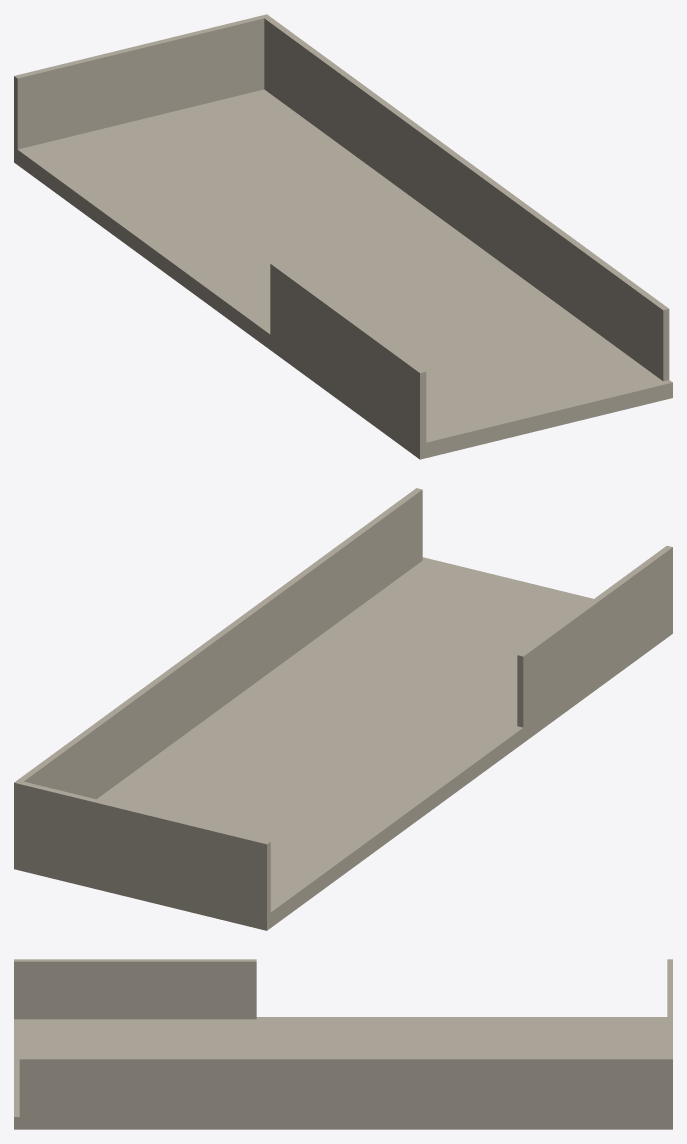
Rendered from TIDAL_AQUATIC_D14_street_r001.glb.
3 renders of one model, top to bottom at view 1: azimuth 30°, elevation 25°; view 2: azimuth 150°, elevation 25°; view 3: azimuth 270°, elevation 25°, orthographic. The views are drawn at different scales.
Visible parts, largest first — view 1: D14_SouthStreetFloor, D14_Unbuilt394SafetyGuard, D14_SouthStreetEndGuard, D14_WestStreetGapGuard; view 2: D14_SouthStreetFloor, D14_Unbuilt394SafetyGuard, D14_SouthStreetEndGuard, D14_WestStreetGapGuard; view 3: D14_Unbuilt394SafetyGuard, D14_SouthStreetFloor, D14_WestStreetGapGuard, D14_SouthStreetEndGuard.
Boxes of the visible parts, bbox=[...] form: D14_SouthStreetFloor: bbox=[14, 89, 672, 459]; D14_Unbuilt394SafetyGuard: bbox=[264, 17, 669, 381]; D14_SouthStreetEndGuard: bbox=[14, 14, 269, 149]; D14_WestStreetGapGuard: bbox=[270, 262, 426, 443]; D14_SouthStreetFloor: bbox=[14, 557, 672, 930]; D14_Unbuilt394SafetyGuard: bbox=[18, 488, 422, 799]; D14_SouthStreetEndGuard: bbox=[14, 780, 270, 915]; D14_WestStreetGapGuard: bbox=[517, 546, 672, 727]; D14_Unbuilt394SafetyGuard: bbox=[19, 1057, 667, 1116]; D14_SouthStreetFloor: bbox=[14, 1017, 672, 1129]; D14_WestStreetGapGuard: bbox=[14, 959, 256, 1019]; D14_SouthStreetEndGuard: bbox=[667, 959, 672, 1116].
Size of the model in its own units: 4.1 by 1.34 by 11.4.
